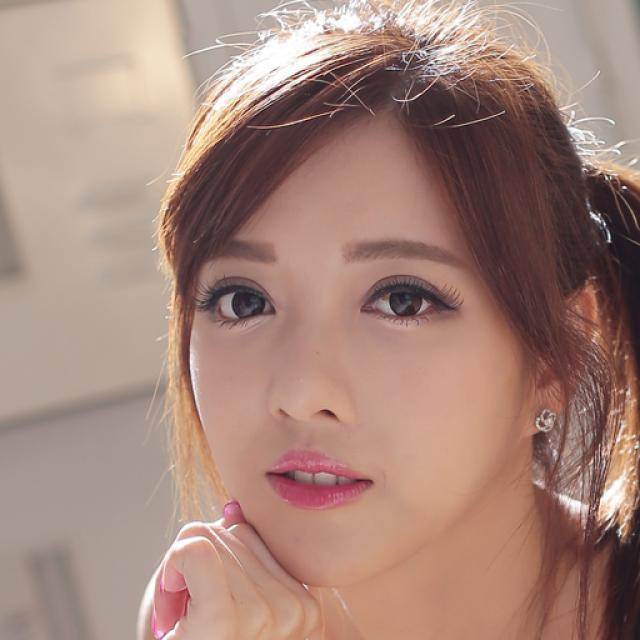neutral: (186, 88, 525, 588)
